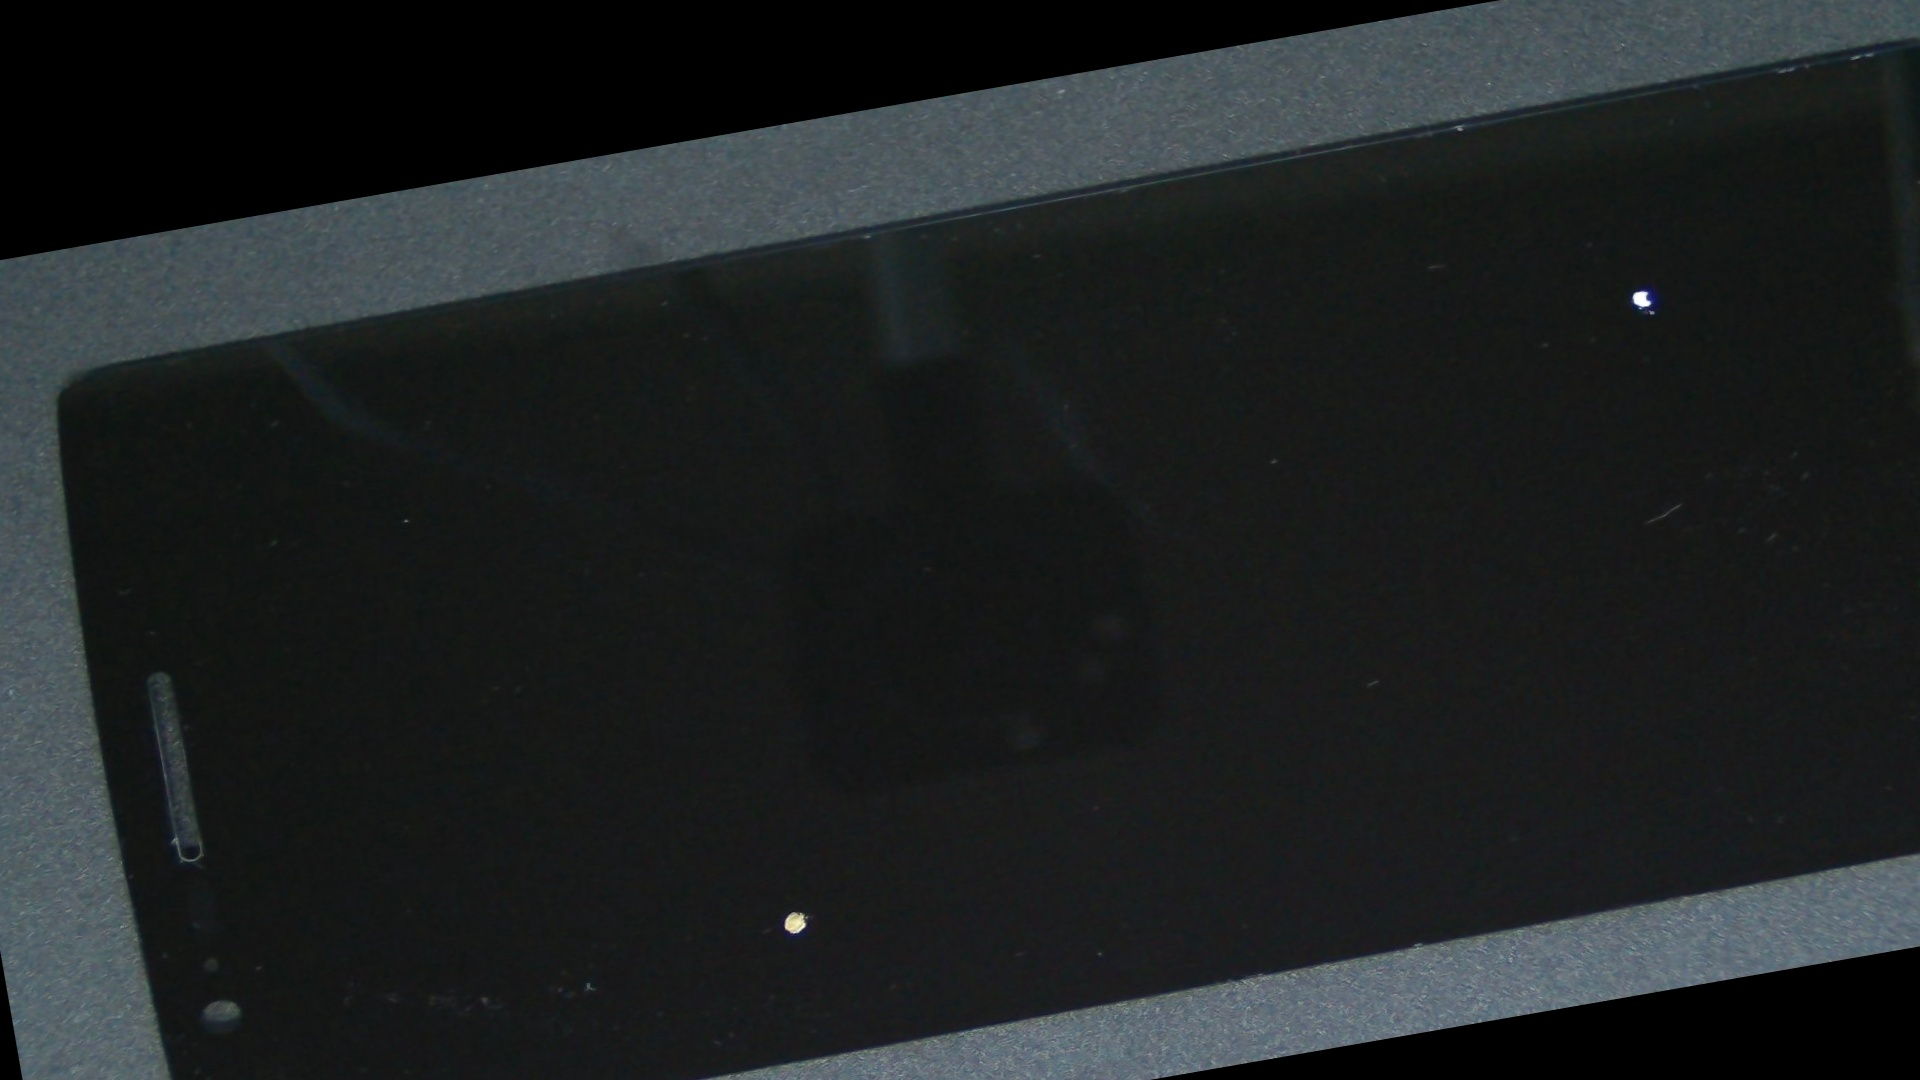oil: (764, 55, 1920, 588), (339, 460, 1218, 1080)
